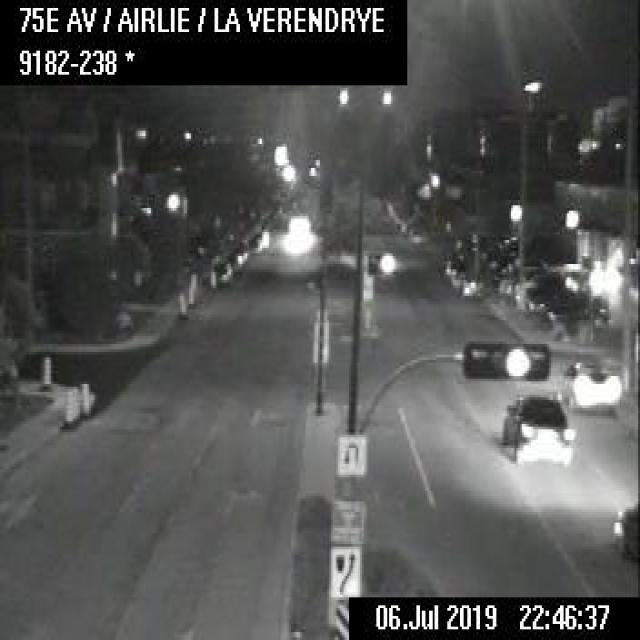construction: (38, 346, 53, 386), (61, 381, 72, 427), (69, 382, 78, 420), (79, 378, 88, 416), (185, 271, 194, 304), (175, 288, 185, 317), (207, 265, 215, 291)
vehicle: (498, 392, 574, 466), (563, 359, 621, 411), (606, 496, 638, 560), (209, 256, 230, 282), (457, 276, 478, 298), (437, 252, 460, 272), (448, 267, 465, 286)
